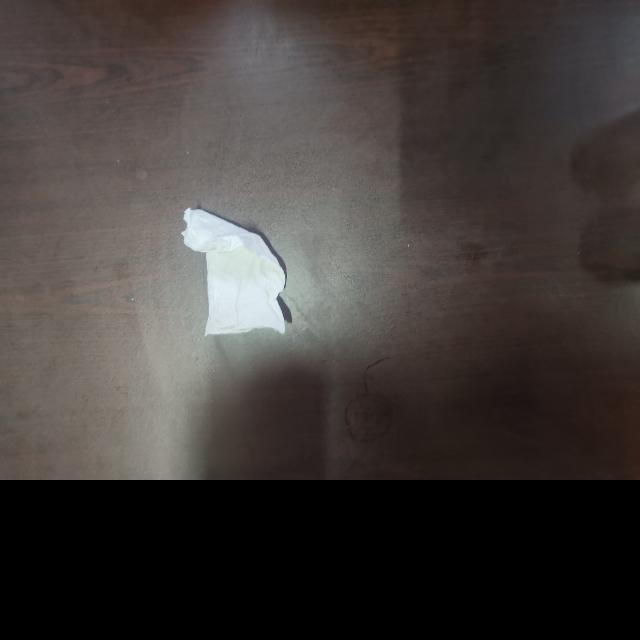kitchen paper: (178, 205, 294, 340)
